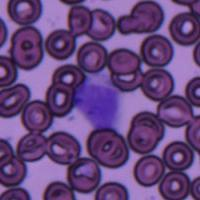L: (72, 76, 123, 128)
